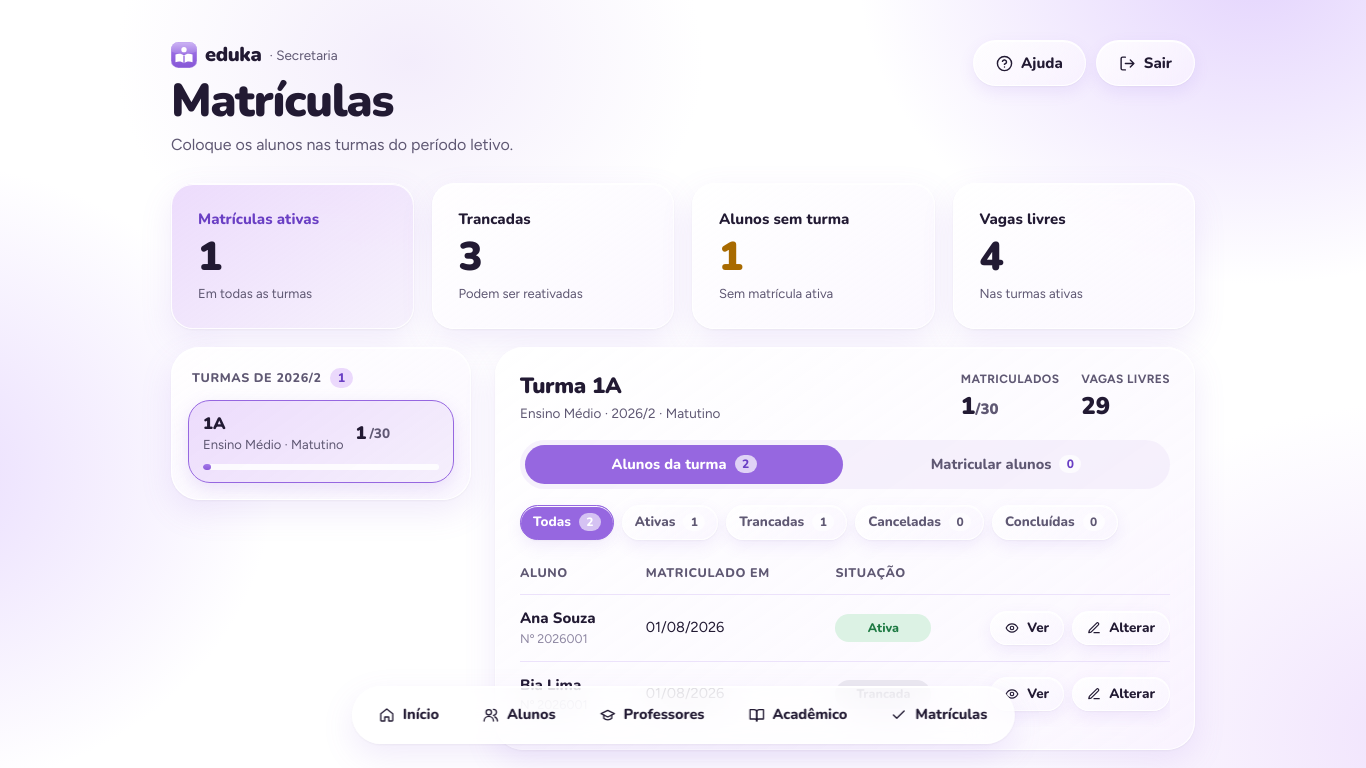
Test case: Matriculas › o filtro de situação vai ao backend e os contadores vêm do resumo da turma
Expected: the text "Bia Lima" is shown, [520,675,581,695]
Expected: the button "Todas 2" is shown, [520,505,614,540]
Click the button "Trancadas 1": (787, 522) [726,505,847,540]
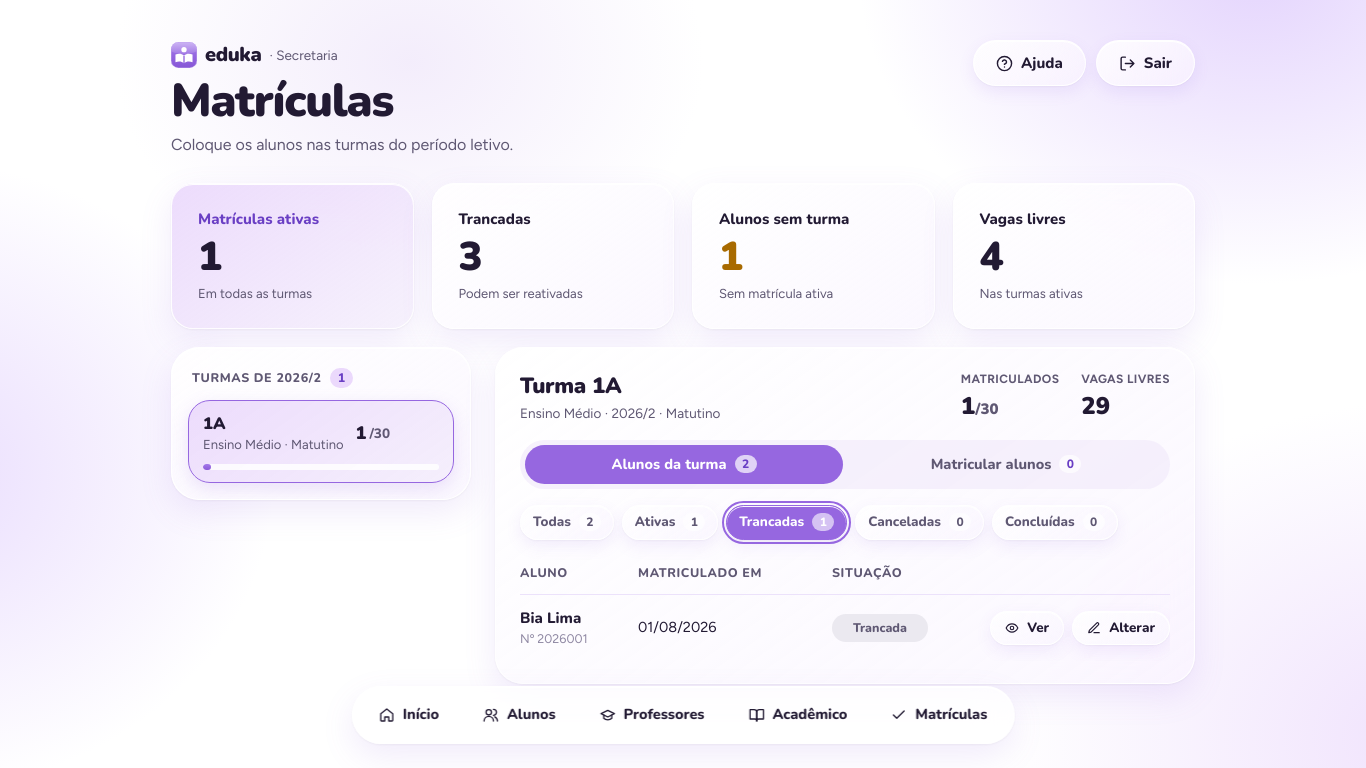
Expected: the text "Bia Lima" is shown, [520,608,581,628]
Expected: the text "Ana Souza" is gone
